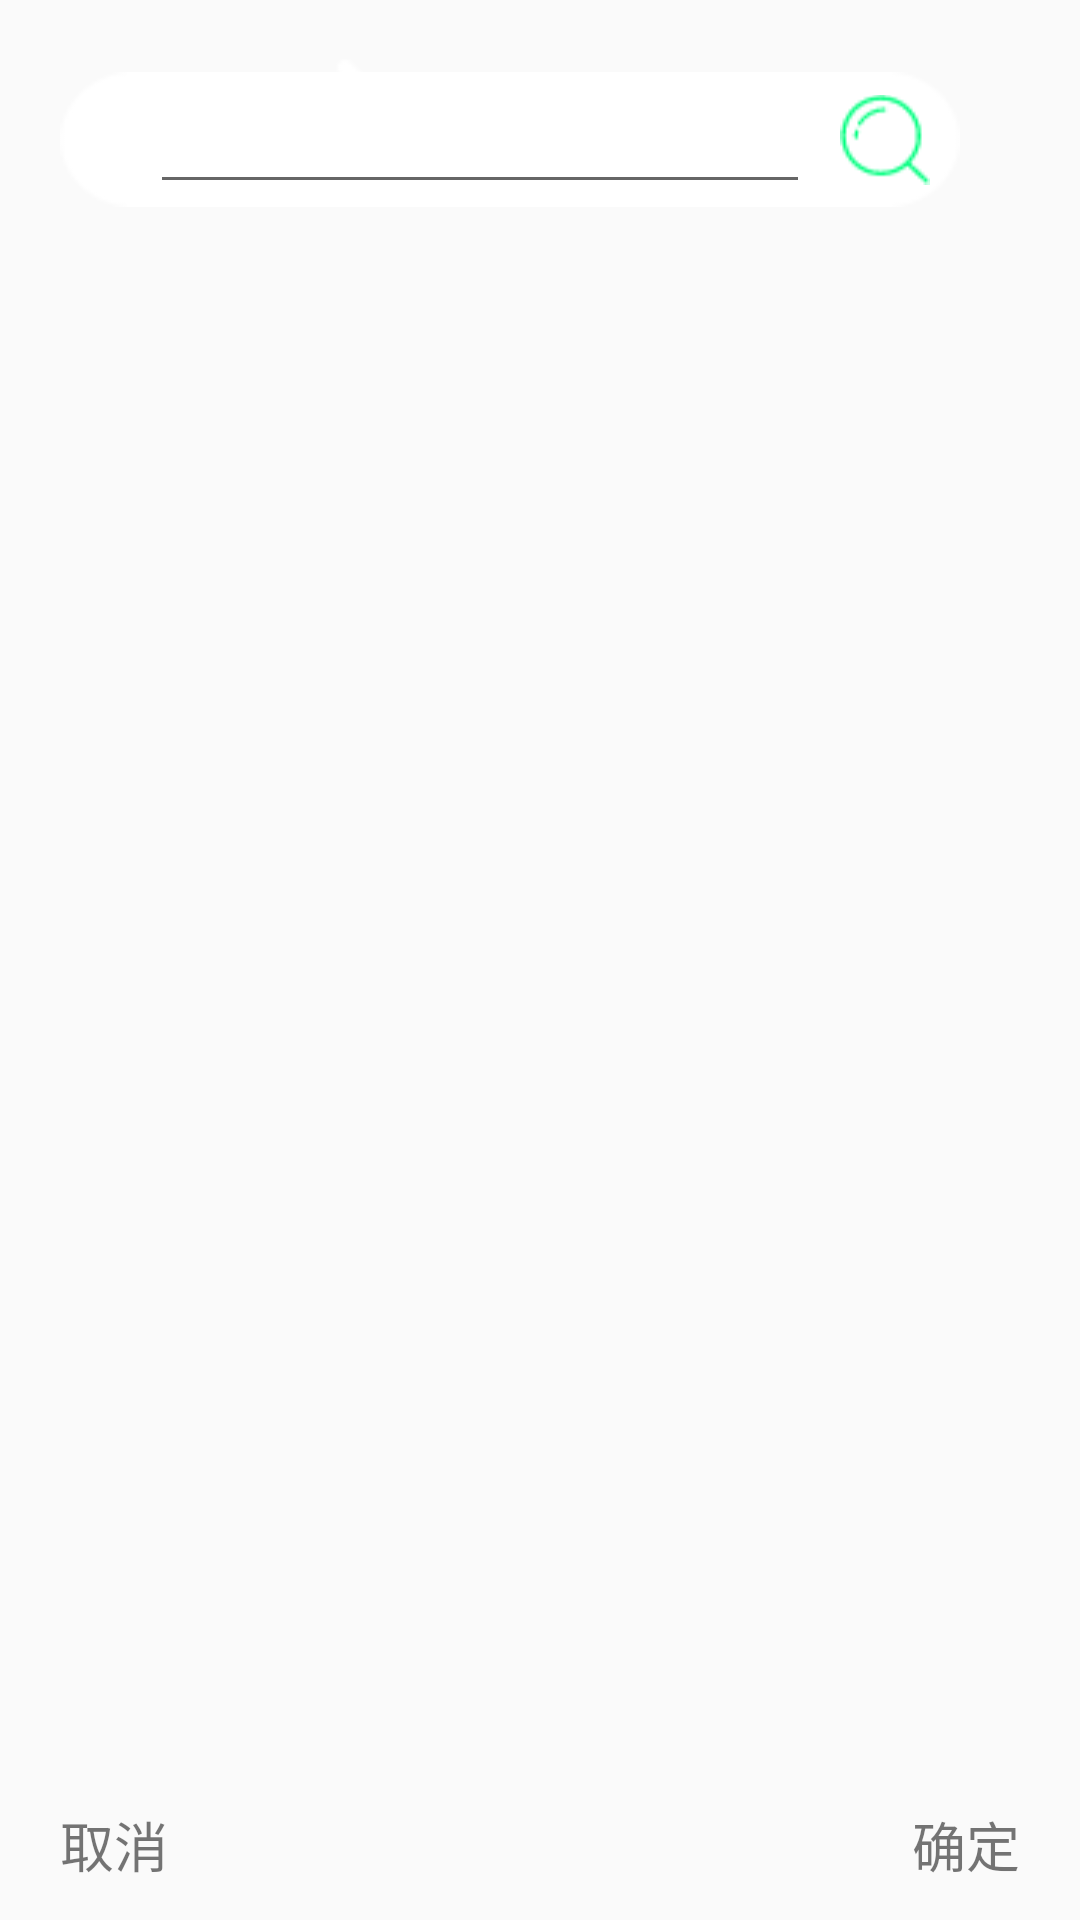

Where to tap for icons on this 1080 × 1920 app screen, as point (x, y):
search: point (885, 140)
